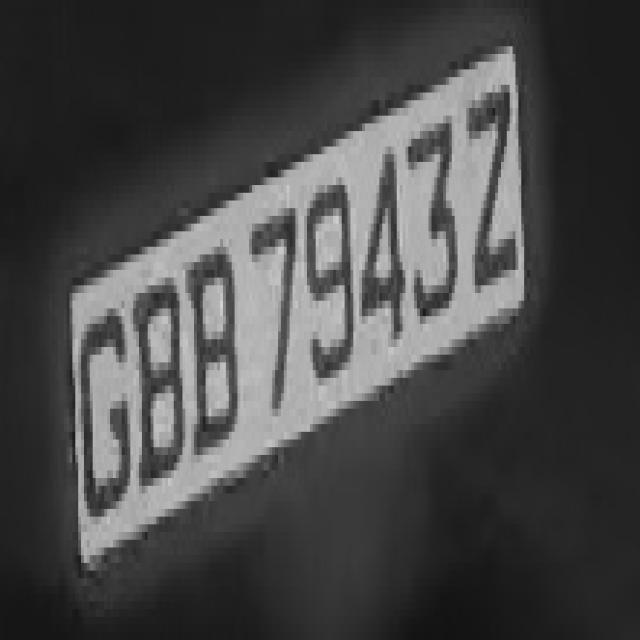3: (400, 115, 466, 378)
4: (348, 131, 414, 355)
7: (240, 185, 302, 463)
9: (301, 146, 356, 416)
B: (188, 216, 246, 470), (133, 239, 188, 494)
G: (75, 285, 136, 555)
Z: (455, 77, 533, 301)
